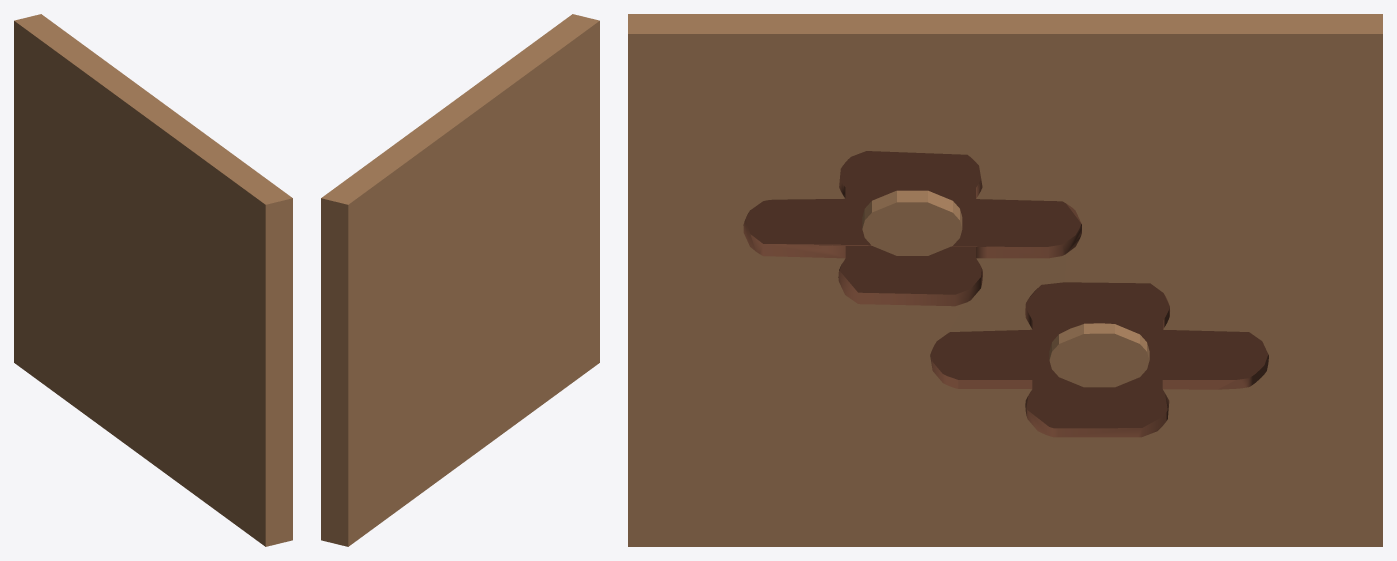
Rendered from SignCherryCliffs.glb.
3 views of the same model, side by side, from view 1: azimuth 30°, elevation 25°; view 2: azimuth 150°, elevation 25°; view 3: azimuth 270°, elevation 25° (orthographic). The views are drawn at different scales.
Visible parts, largest first — view 1: Cube; view 2: Cube; view 3: Cube.
Boxes of the visible parts, x1,y1,x2,y2 form: Cube: [14, 14, 292, 546]; Cube: [321, 14, 599, 546]; Cube: [628, 14, 1382, 546].
Size of the model in its own units: 0.1025 by 1.2 by 1.6.
